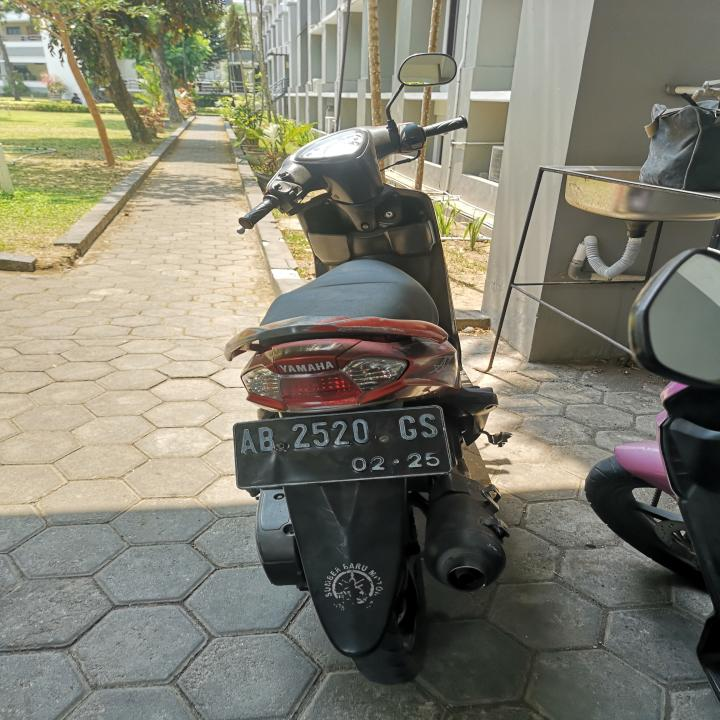plate: (230, 406, 458, 490)
